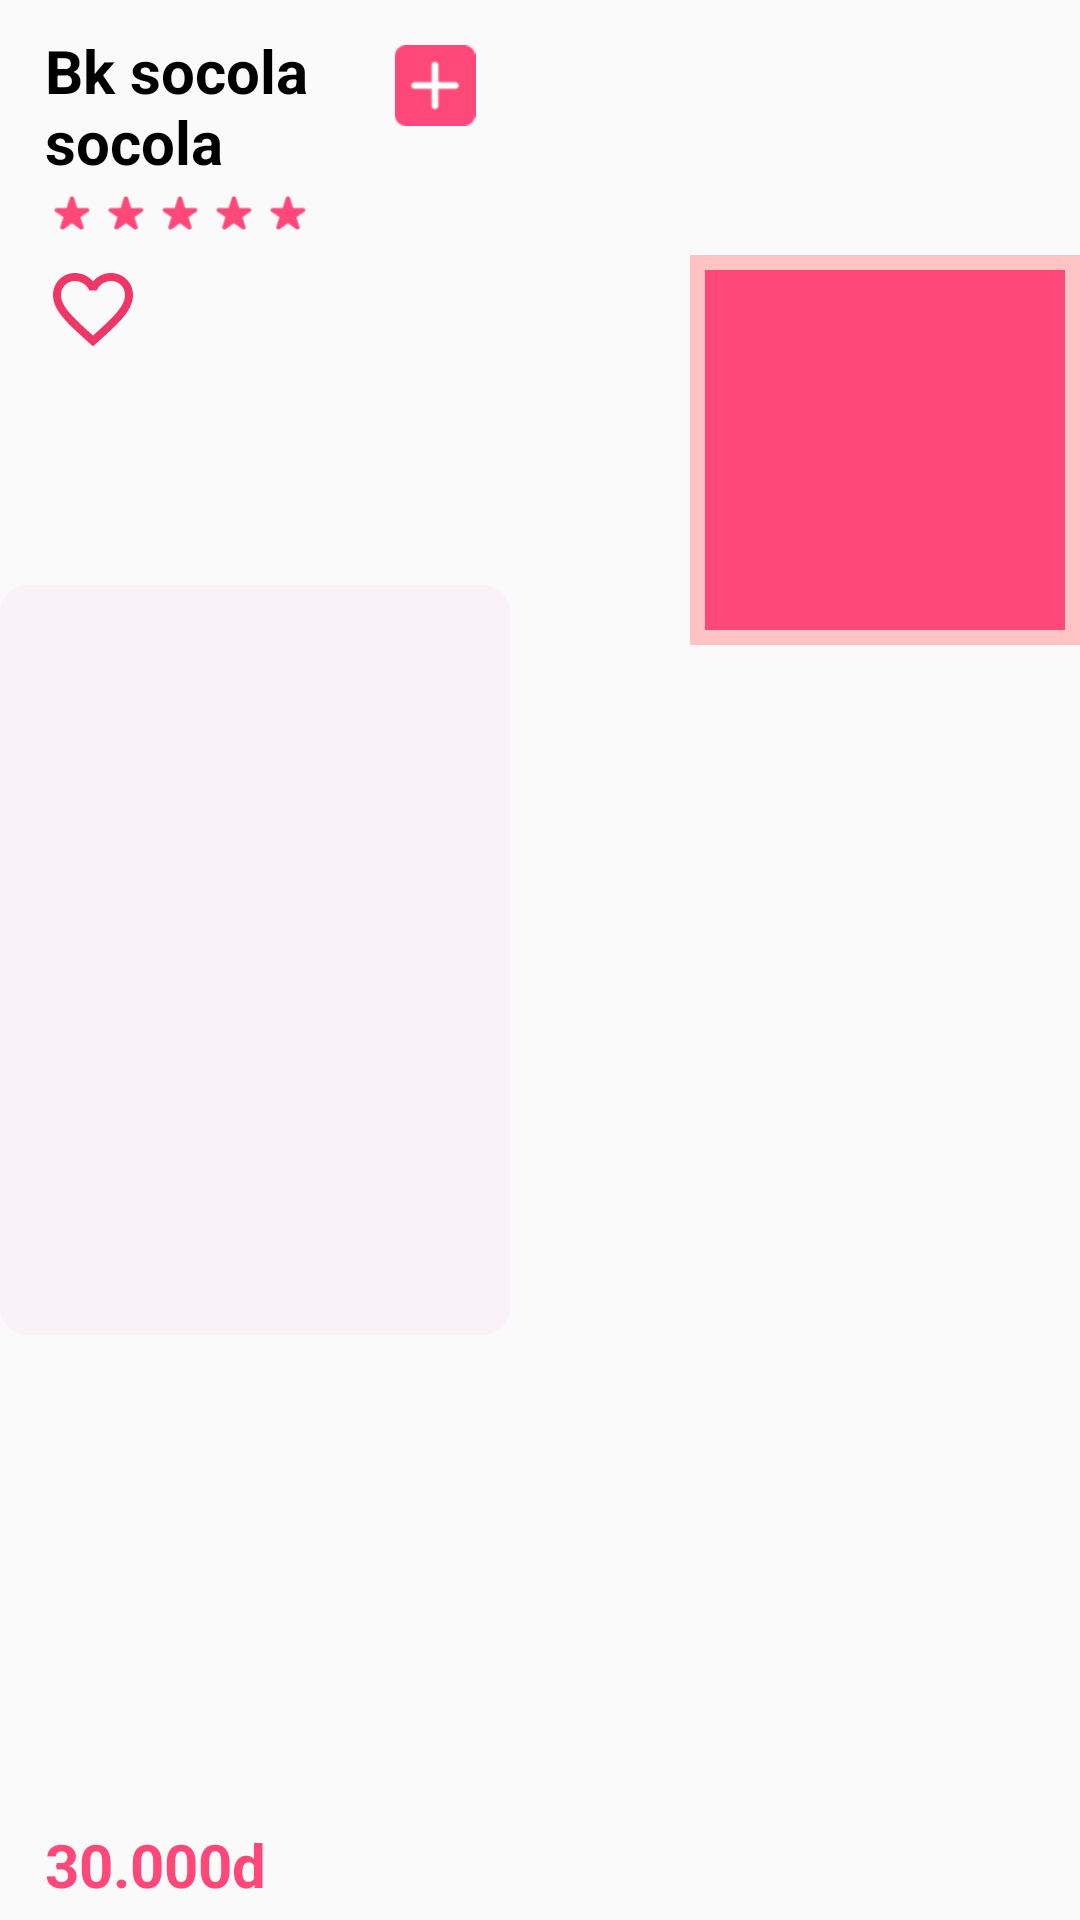

Where to tap for icons on this 1080px x 1920px app screen, as [x,y]:
favourite: [93,309]
plus: [435,85]
starvote: [72,213], [126,213], [180,213], [234,213], [288,213]
